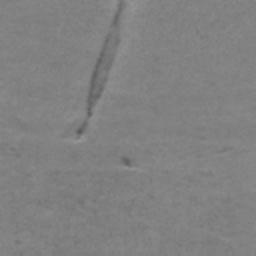Finishing roll printing: (64, 0, 117, 119), (113, 133, 124, 147)
